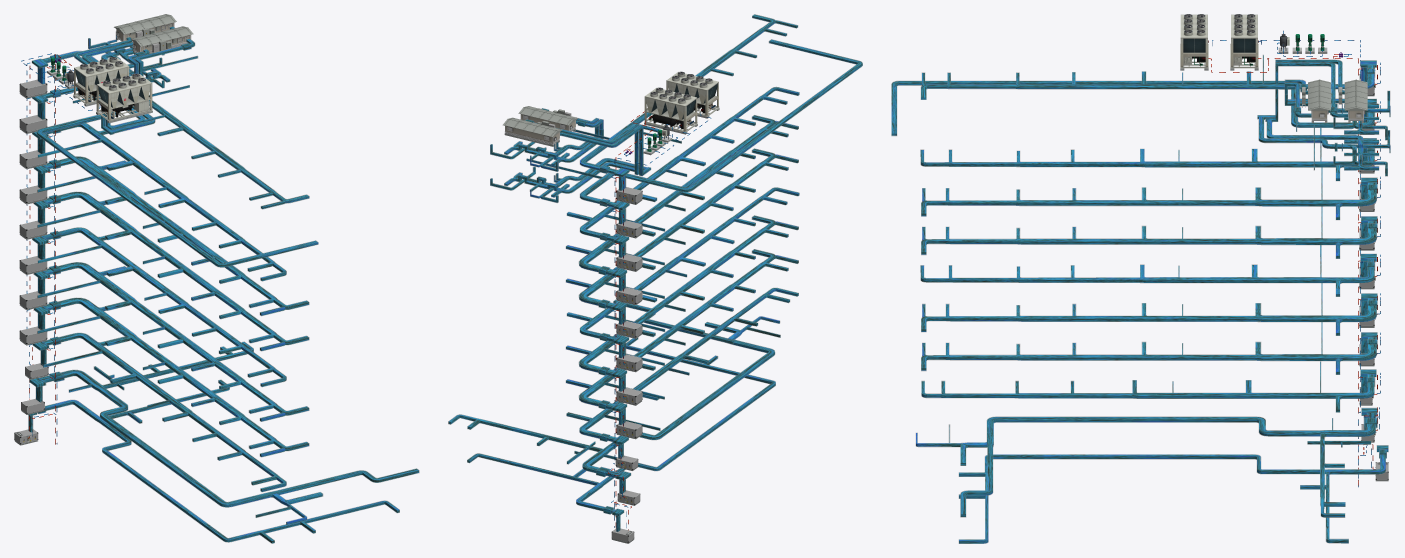
Rendered from Pipe_CS2022-7-25.FBX.
The picture shows the model from 3 angles, left to right: view 1: azimuth 30°, elevation 25°; view 2: azimuth 150°, elevation 25°; view 3: azimuth 270°, elevation 25°; orthographic projection. The views are drawn at different scales.
Visible parts, largest first — view 1: A2_4_2F_MA, A2_4_2F_MA_Liquid, A2_4_5F_MA, A2_4_4F_MA, A2_4_7F_MA, A2_4_1F_MA, A2_4_6F_MA, A2_4_3F_MA, A2_4_5F_MA_Liquid, A2_4_4F_MA_Liquid, A2_4_7F_MA_Liquid, A2_4_8F_MA (+18 smaller); view 2: A2_4_2F_MA, A2_4_2F_MA_Liquid, A2_4_10F_MA, A2_4_1F_MA, A2_4_5F_MA, A2_4_7F_MA, A2_4_4F_MA, A2_4_6F_MA, A2_4_9F_MA, A2_4_3F_MA, A2_4_8F_MA, A2_4_5F_MA_Liquid (+26 smaller); view 3: A2_4_2F_MA, A2_4_2F_MA_Liquid, A2_4_4F_MA, A2_4_7F_MA, A2_4_8F_MA, A2_4_5F_MA, A2_4_6F_MA, A2_4_3F_MA, A2_4_1F_MA, A2_4_5F_MA_Liquid, A2_4_8F_MA_Liquid, A2_4_4F_MA_Liquid (+23 smaller).
Part boxes in pixels (bbox=[...]): A2_4_2F_MA: bbox=[29, 341, 419, 525]; A2_4_2F_MA_Liquid: bbox=[29, 342, 418, 524]; A2_4_5F_MA: bbox=[34, 262, 309, 421]; A2_4_4F_MA: bbox=[34, 297, 309, 457]; A2_4_7F_MA: bbox=[34, 191, 309, 351]; A2_4_1F_MA: bbox=[28, 379, 399, 543]; A2_4_6F_MA: bbox=[32, 227, 286, 387]; A2_4_3F_MA: bbox=[32, 332, 286, 492]; A2_4_5F_MA_Liquid: bbox=[34, 262, 308, 421]; A2_4_4F_MA_Liquid: bbox=[34, 298, 308, 456]; A2_4_7F_MA_Liquid: bbox=[34, 192, 308, 350]; A2_4_8F_MA: bbox=[33, 156, 309, 316]; A2_4_2F_MA: bbox=[448, 299, 780, 493]; A2_4_2F_MA_Liquid: bbox=[448, 300, 780, 493]; A2_4_10F_MA: bbox=[526, 39, 862, 223]; A2_4_1F_MA: bbox=[467, 337, 775, 531]; A2_4_5F_MA: bbox=[565, 215, 798, 391]; A2_4_7F_MA: bbox=[565, 148, 798, 324]; A2_4_4F_MA: bbox=[565, 249, 798, 424]; A2_4_6F_MA: bbox=[566, 187, 799, 357]; A2_4_9F_MA: bbox=[566, 86, 799, 257]; A2_4_3F_MA: bbox=[566, 287, 798, 458]; A2_4_8F_MA: bbox=[565, 115, 798, 290]; A2_4_5F_MA_Liquid: bbox=[566, 215, 798, 391]; A2_4_2F_MA: bbox=[915, 407, 1377, 517]; A2_4_2F_MA_Liquid: bbox=[916, 408, 1377, 517]; A2_4_4F_MA: bbox=[921, 322, 1377, 374]; A2_4_7F_MA: bbox=[921, 207, 1377, 258]; A2_4_8F_MA: bbox=[921, 168, 1377, 220]; A2_4_5F_MA: bbox=[921, 283, 1377, 335]; A2_4_6F_MA: bbox=[920, 245, 1376, 296]; A2_4_3F_MA: bbox=[921, 361, 1376, 412]; A2_4_1F_MA: bbox=[958, 445, 1388, 543]; A2_4_5F_MA_Liquid: bbox=[921, 283, 1377, 335]; A2_4_8F_MA_Liquid: bbox=[921, 168, 1377, 219]; A2_4_4F_MA_Liquid: bbox=[921, 322, 1377, 374].
Bounding box in the file's own units: 248 × 429 × 422.
